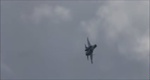maybay_muctieu: (81, 37, 97, 63)
